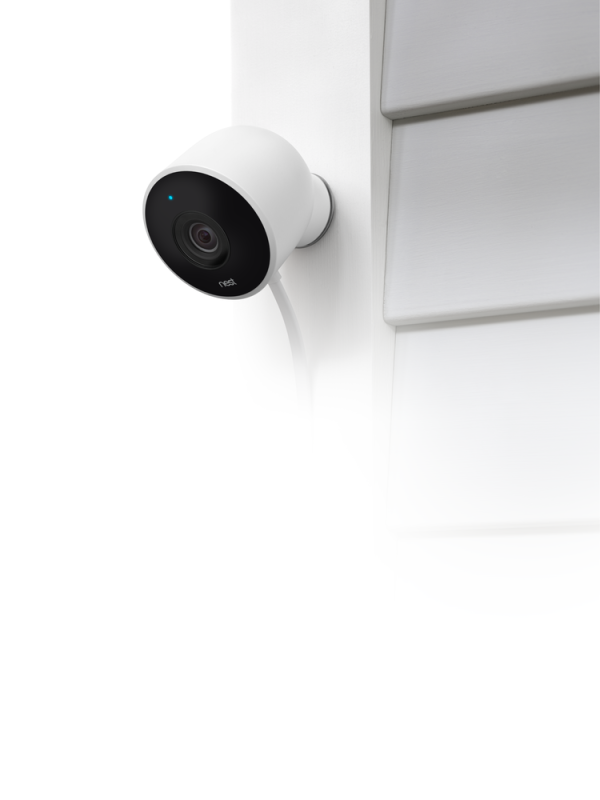Nest Cam: (137, 98, 338, 320)
